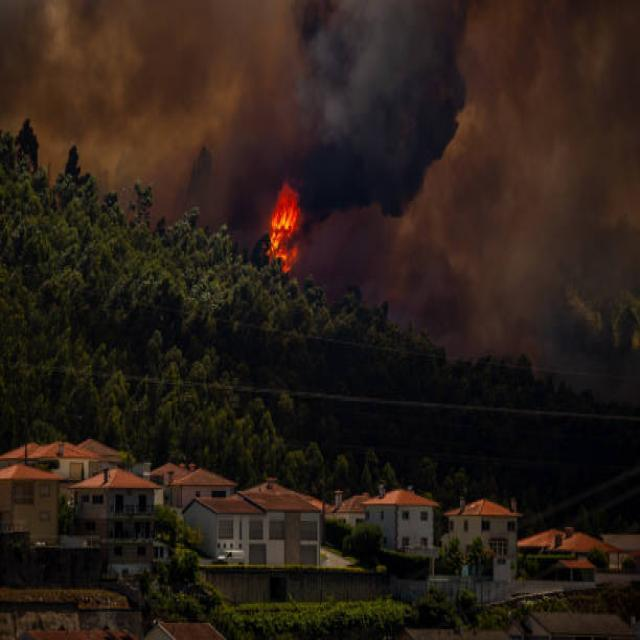Fire: (265, 182, 306, 268)
Smoke: (187, 0, 474, 244)
